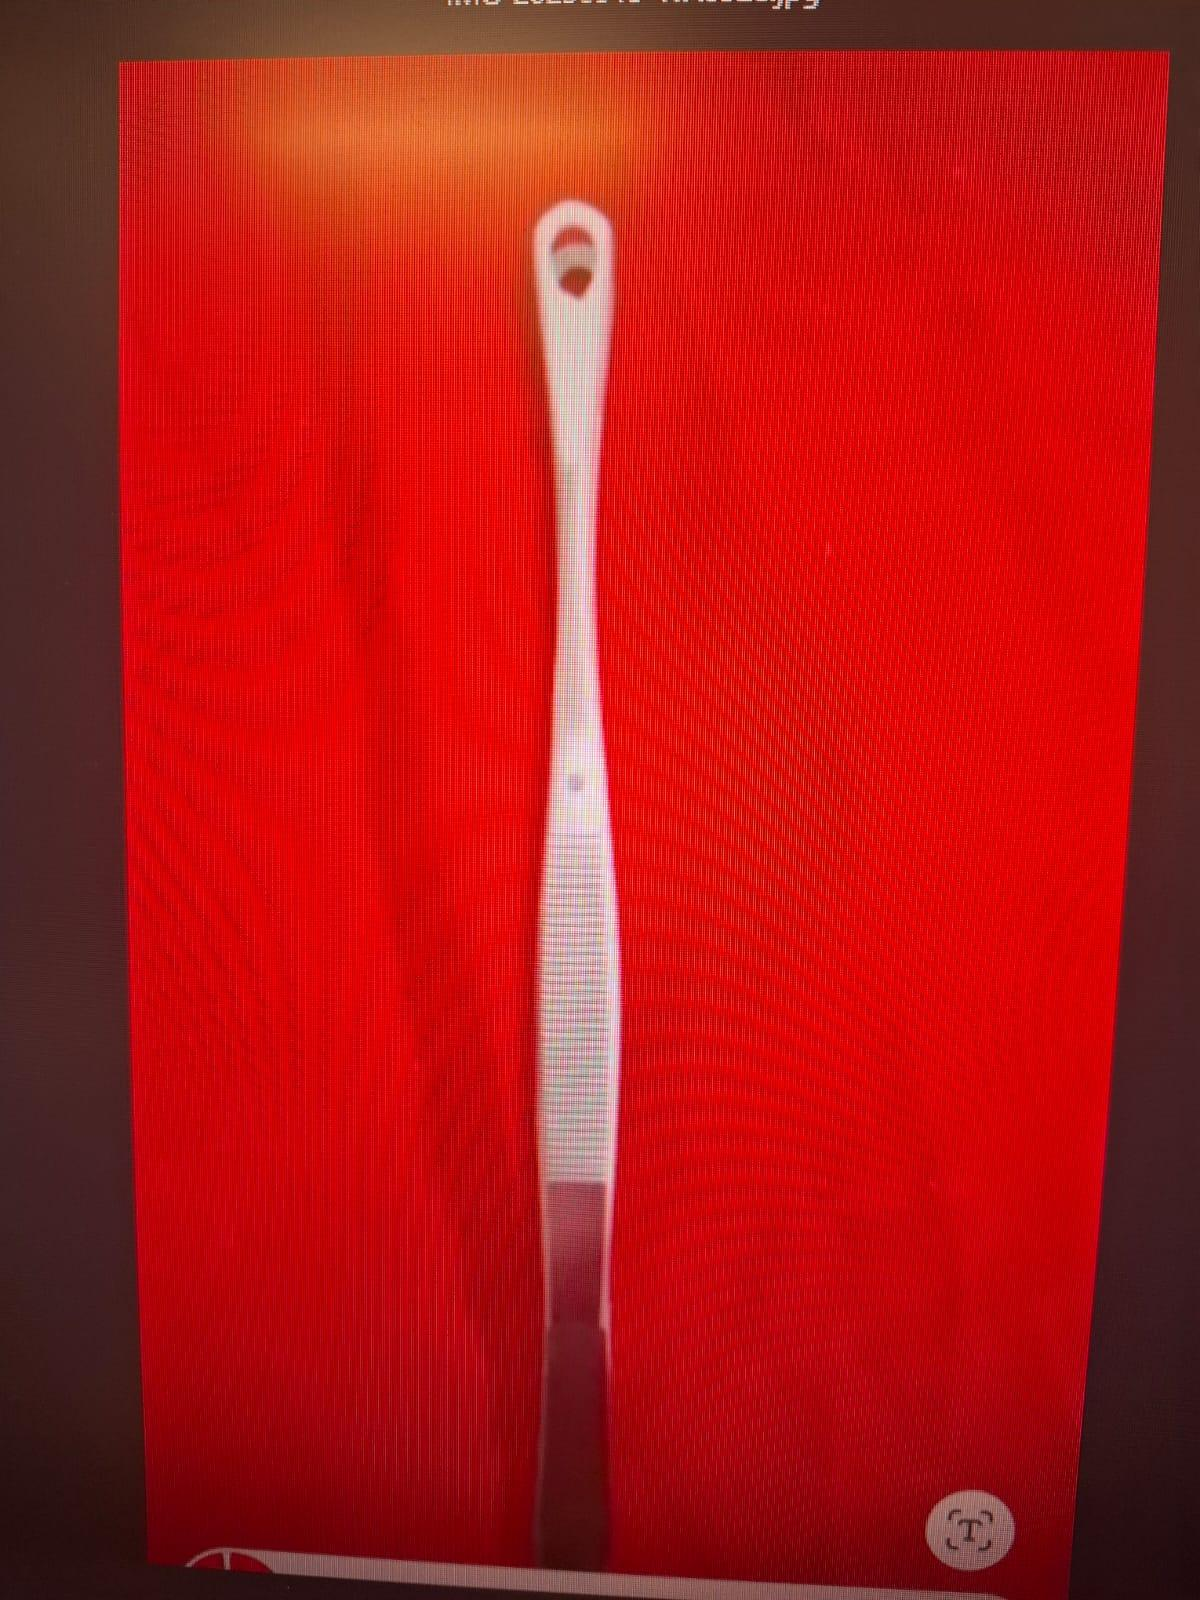Eye Intestinal Forceps: (488, 183, 671, 1590)
